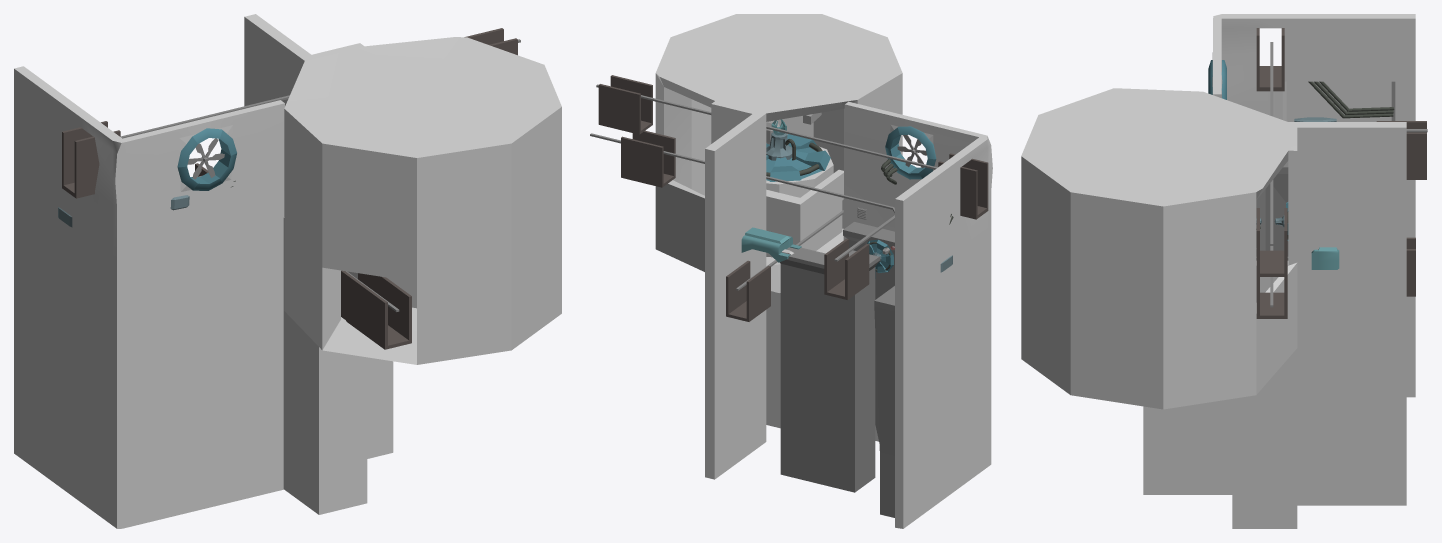
File: cargoRoom_v3.fbx
3 views of the same model, side by side, from view 1: azimuth 30°, elevation 25°; view 2: azimuth 150°, elevation 25°; view 3: azimuth 270°, elevation 25° (orthographic). The views are drawn at different scales.
Visible parts, largest first — view 1: walls_removed, tram_door_2_1, tram_door_3_1, fanWall, tram_door_3_2; view 2: walls_removed, platform_1, platform_2, tram_door_3_2, tram_door_1_1, tram_door_1_3, tram_door_2_2, tram_door_3_1, reactorRoom:pSphere1, fanWall, entrance_wall, cable_1 (+3 smaller); view 3: walls_removed, platform_2, tram_door_1_3, tram_door_3_2, tubes, tram_door_3_1, tram_door_1_1, entrance_wall, tram_door_2_2, cable_3.
Boxes of the visible parts, <box> form: walls_removed: <box>14,14,561,528</box>; tram_door_2_1: <box>341,270,411,349</box>; tram_door_3_1: <box>62,121,120,198</box>; fanWall: <box>177,128,236,190</box>; tram_door_3_2: <box>464,28,517,55</box>; walls_removed: <box>655,14,992,528</box>; platform_1: <box>780,247,879,492</box>; platform_2: <box>843,222,894,517</box>; tram_door_3_2: <box>598,75,652,134</box>; tram_door_1_1: <box>621,130,675,187</box>; tram_door_1_3: <box>824,238,869,299</box>; tram_door_2_2: <box>726,260,770,321</box>; tram_door_3_1: <box>938,153,988,219</box>; reactorRoom:pSphere1: <box>766,134,830,181</box>; fanWall: <box>885,126,936,179</box>; entrance_wall: <box>741,227,801,262</box>; cable_1: <box>590,133,894,261</box>; walls_removed: <box>1021,14,1415,528</box>; platform_2: <box>1256,161,1288,260</box>; tram_door_1_3: <box>1376,121,1426,179</box>; tram_door_3_2: <box>1256,208,1287,276</box>; tubes: <box>1308,81,1394,118</box>; tram_door_3_1: <box>1256,28,1284,91</box>; tram_door_1_1: <box>1256,277,1287,318</box>; entrance_wall: <box>1311,247,1339,269</box>; tram_door_2_2: <box>1406,237,1415,296</box>; cable_3: <box>1270,42,1273,245</box>.
Bounding box in the file's own units: 670 × 550 × 524.
